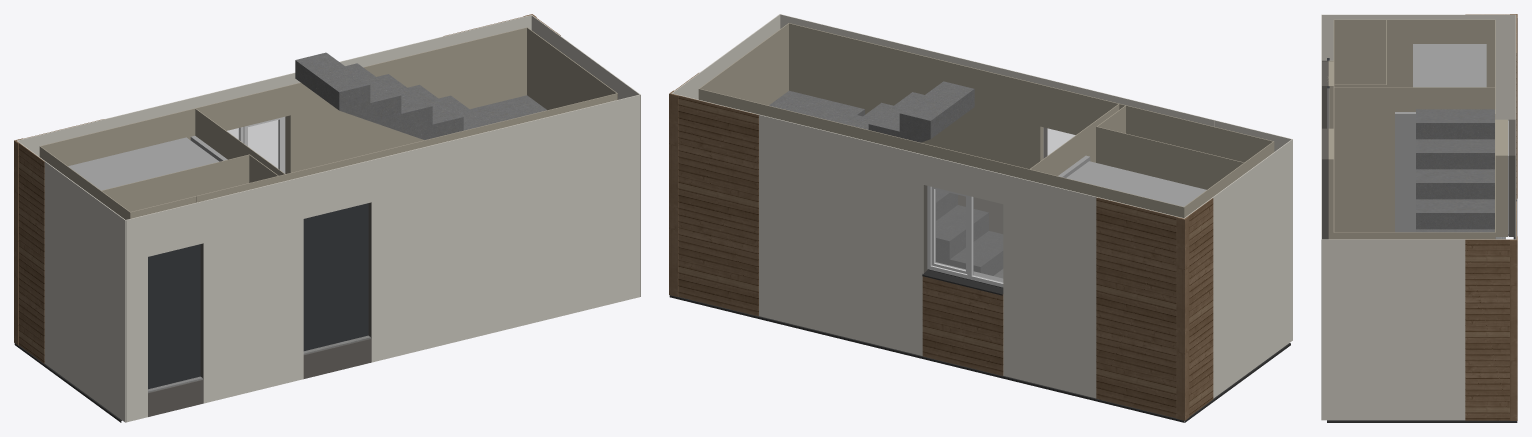
The model's file is Trepikoda_1K_Viimistlus_B.glb.
3 renders of one model, left to right at view 1: azimuth 30°, elevation 25°; view 2: azimuth 150°, elevation 25°; view 3: azimuth 270°, elevation 25°, orthographic. The views are drawn at different scales.
Parts seen in each view (by area): view 1: Kiudtsementplaat_088, Kiudtsementplaat_089, Uks_040 (×2), UTypeStair011, Box333, Box328, Aken_Tava_148, Box330; view 2: Kiudtsementplaat_088, Kiudtsementplaat_089, Box332 (×2), UTypeStair011, Aken_Tava_148, Box453, Box333, Box330 (×3), Box328, Veeplekk_elementide_vahel_153; view 3: Kiudtsementplaat_088, Kiudtsementplaat_089, UTypeStair011, Box333, Box328, Box327, Box330, Veeplekk_elementide_vahel_152.
Part boxes in pixels (<box>): Kiudtsementplaat_088: <box>16,15,640,422</box>; Kiudtsementplaat_089: <box>39,27,617,219</box>; Uks_040 (×2): <box>148,203,368,389</box>; UTypeStair011: <box>295,52,546,139</box>; Box333: <box>19,143,44,363</box>; Box328: <box>68,137,219,190</box>; Aken_Tava_148: <box>227,116,285,173</box>; Box330: <box>14,140,19,345</box>; Kiudtsementplaat_088: <box>671,14,1292,398</box>; Kiudtsementplaat_089: <box>698,23,1274,269</box>; Box332 (×2): <box>678,95,1176,417</box>; UTypeStair011: <box>769,81,1002,275</box>; Aken_Tava_148: <box>922,186,1003,295</box>; Box453: <box>922,276,1003,375</box>; Box333: <box>1188,198,1213,416</box>; Box330 (×3): <box>670,93,1189,420</box>; Box328: <box>1066,161,1206,206</box>; Veeplekk_elementide_vahel_153: <box>669,295,1184,422</box>; Kiudtsementplaat_088: <box>1321,14,1516,420</box>; Kiudtsementplaat_089: <box>1328,19,1507,239</box>; UTypeStair011: <box>1416,109,1494,232</box>; Box333: <box>1465,239,1509,420</box>; Box328: <box>1413,44,1486,87</box>; Box327: <box>1395,110,1495,238</box>; Box330: <box>1510,239,1517,420</box>; Veeplekk_elementide_vahel_152: <box>1327,420,1517,422</box>.
Bounding box in the file's own units: 8.36 × 3.53 × 3.07.
Materials: 12 (3 with a texture image).
